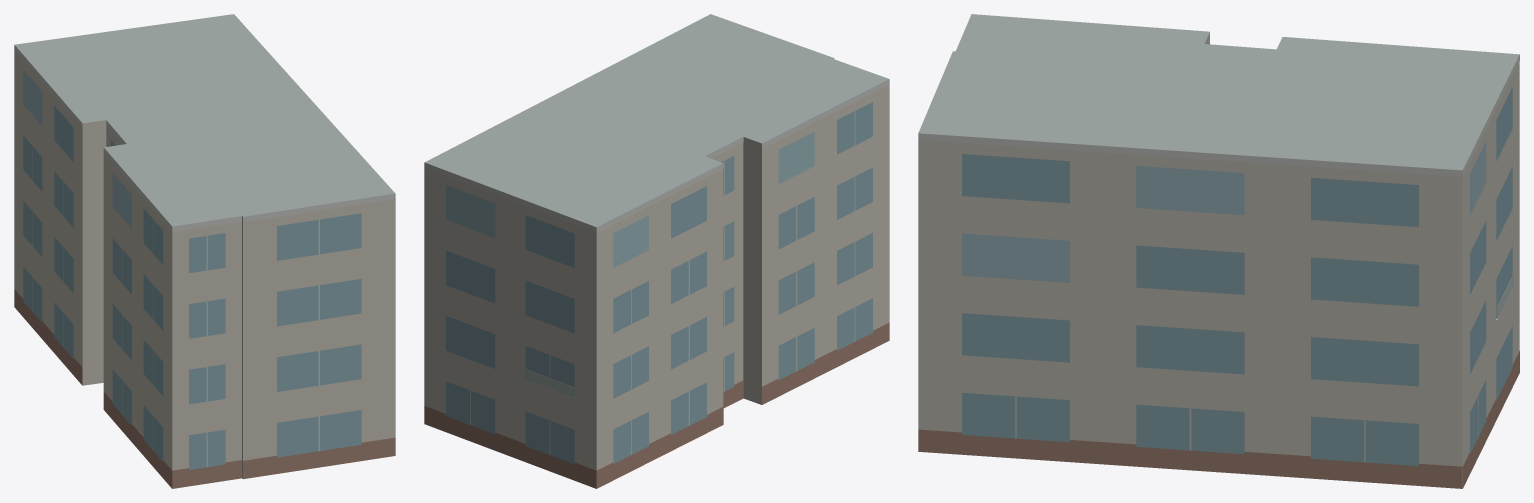
File: survey-upis-32669575.glb
3 renders of one model, left to right at view 1: azimuth 30°, elevation 25°; view 2: azimuth 150°, elevation 25°; view 3: azimuth 270°, elevation 25°, orthographic. The views are drawn at different scales.
Parts seen in each view (by area): view 1: survey-upis-32669575.tmp; view 2: survey-upis-32669575.tmp; view 3: survey-upis-32669575.tmp.
Part boxes in pixels (x1,y1,x2,y2): survey-upis-32669575.tmp: (14,14,395,488); survey-upis-32669575.tmp: (424,14,889,488); survey-upis-32669575.tmp: (918,14,1519,488).
Bounding box in the file's own units: 12.23 × 11.6 × 19.87.
